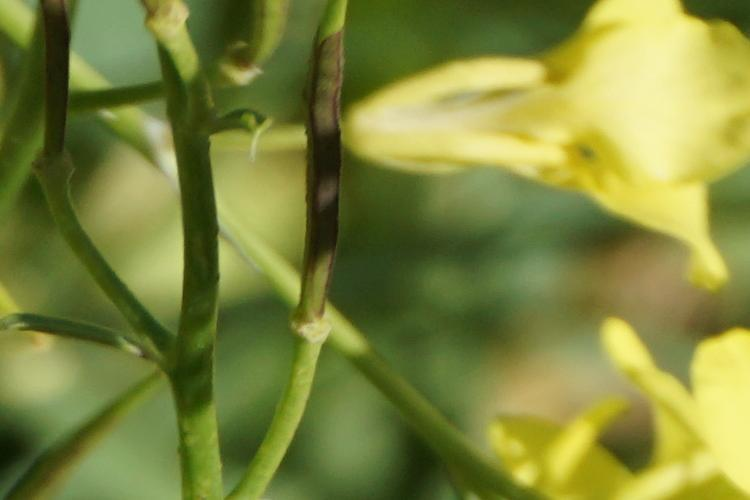pod: (262, 41, 384, 354), (23, 5, 99, 185)
yellow: (345, 8, 746, 296), (484, 312, 745, 500)
